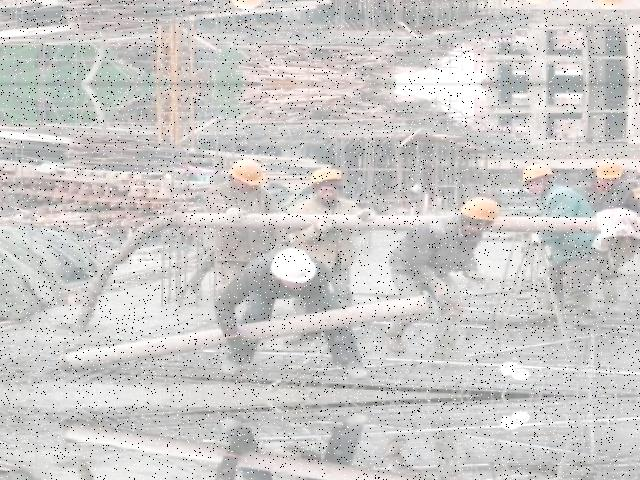Helmet: (265, 244, 319, 286), (224, 154, 268, 191), (454, 191, 499, 227), (302, 164, 346, 189), (515, 160, 554, 188), (589, 157, 624, 182)
